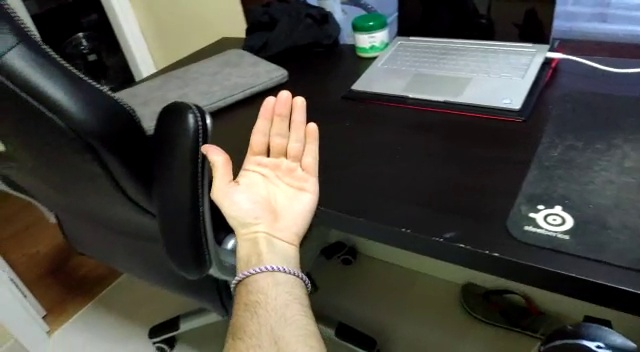Palm: (198, 90, 328, 237)
